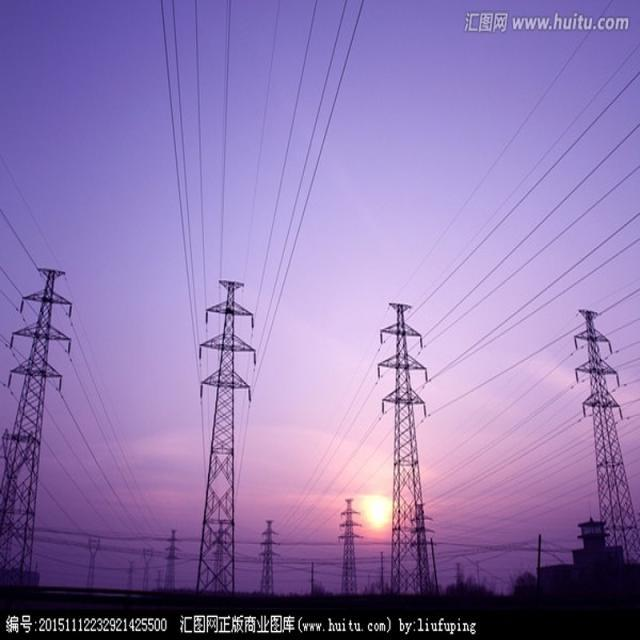non-critical vegetation: (360, 294, 442, 586), (192, 263, 262, 582), (9, 260, 68, 586), (568, 302, 636, 548)
